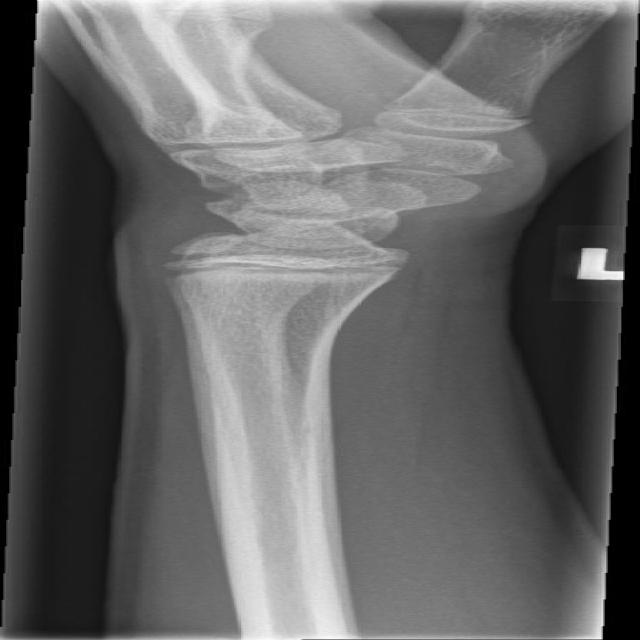fracture: (150, 240, 438, 287)
